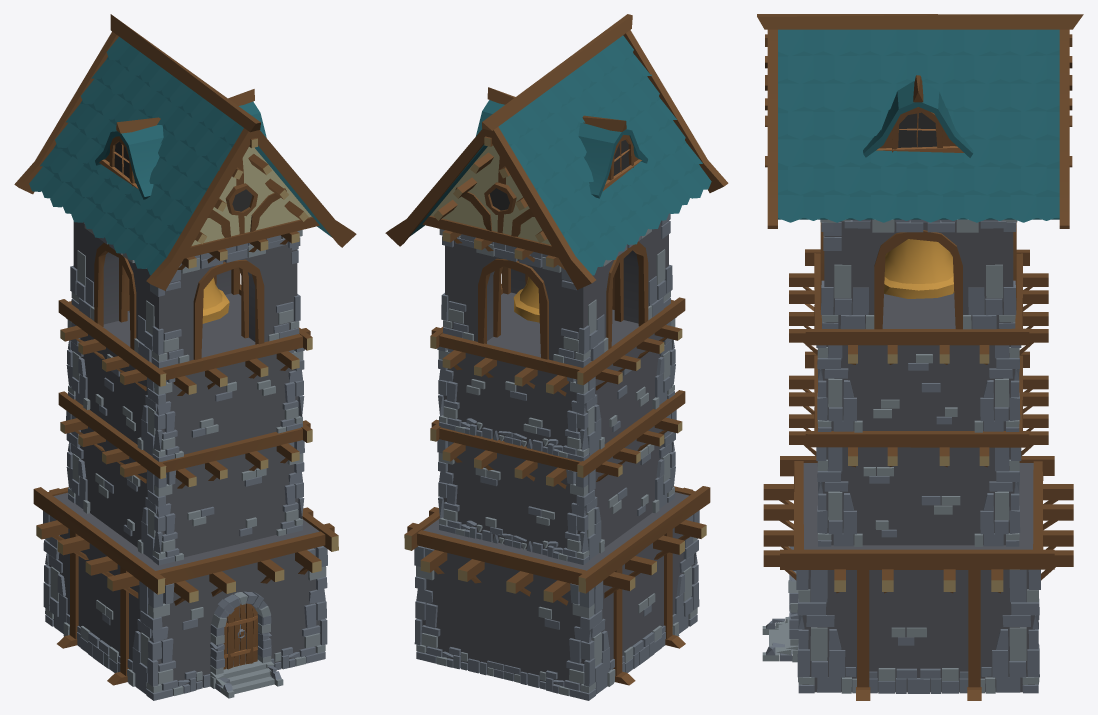
Rendered from LOD1_BellTower.fbx.
3 renders of one model, left to right at view 1: azimuth 30°, elevation 25°; view 2: azimuth 150°, elevation 25°; view 3: azimuth 270°, elevation 25°, orthographic. The views are drawn at different scales.
Parts seen in each view (by area): view 1: Bell_Tower; view 2: Bell_Tower; view 3: Bell_Tower.
Boxes of the visible parts, left/top/right/bottom form: Bell_Tower: left=14, top=14, right=356, bottom=700; Bell_Tower: left=385, top=14, right=728, bottom=700; Bell_Tower: left=757, top=14, right=1083, bottom=700.
Size of the model in its own units: 194 by 476 by 223.
